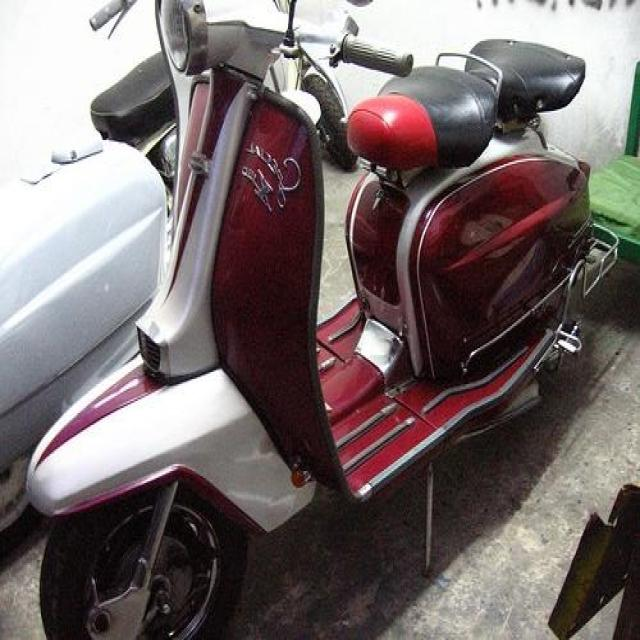Cycle: (19, 0, 623, 640)
